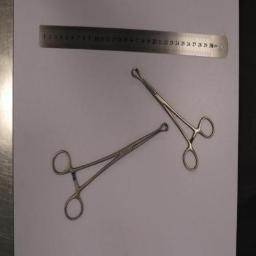Babcock Tissue Forceps: (134, 67, 214, 171)
